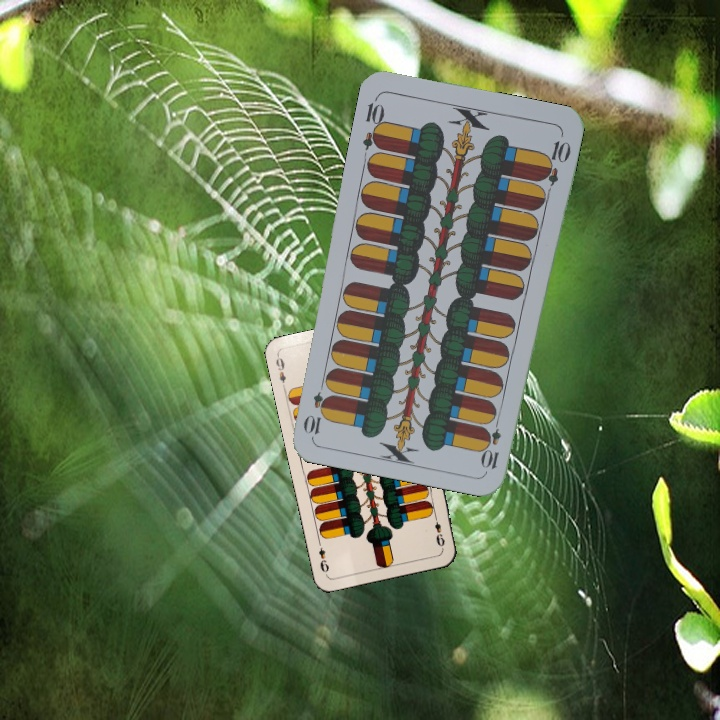E10: (359, 93, 388, 152), (480, 412, 504, 472)
E9: (431, 511, 447, 551), (272, 352, 288, 392)
